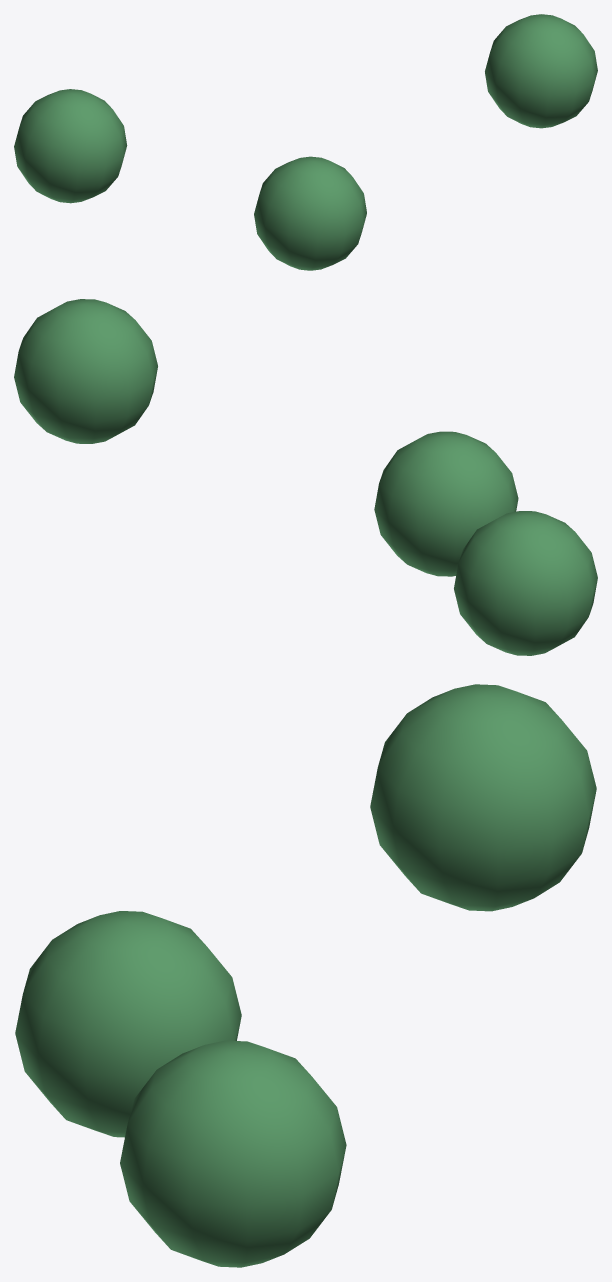
3 views of the same model, one above another, from view 1: azimuth 30°, elevation 25°; view 2: azimuth 150°, elevation 25°; view 3: azimuth 270°, elevation 25° (orthographic). The views are drawn at different scales.
Parts seen in each view (by area): view 1: 右侧腹股沟浅淋巴结上内侧群; view 2: 右侧腹股沟浅淋巴结上内侧群; view 3: 右侧腹股沟浅淋巴结上内侧群.
Part boxes in pixels (x1,y1,x2,y2): 右侧腹股沟浅淋巴结上内侧群: [14, 14, 597, 270]; 右侧腹股沟浅淋巴结上内侧群: [14, 299, 597, 655]; 右侧腹股沟浅淋巴结上内侧群: [15, 684, 596, 1267].
Bounding box in the file's own units: 0.0196 × 0.00606 × 0.00974.
